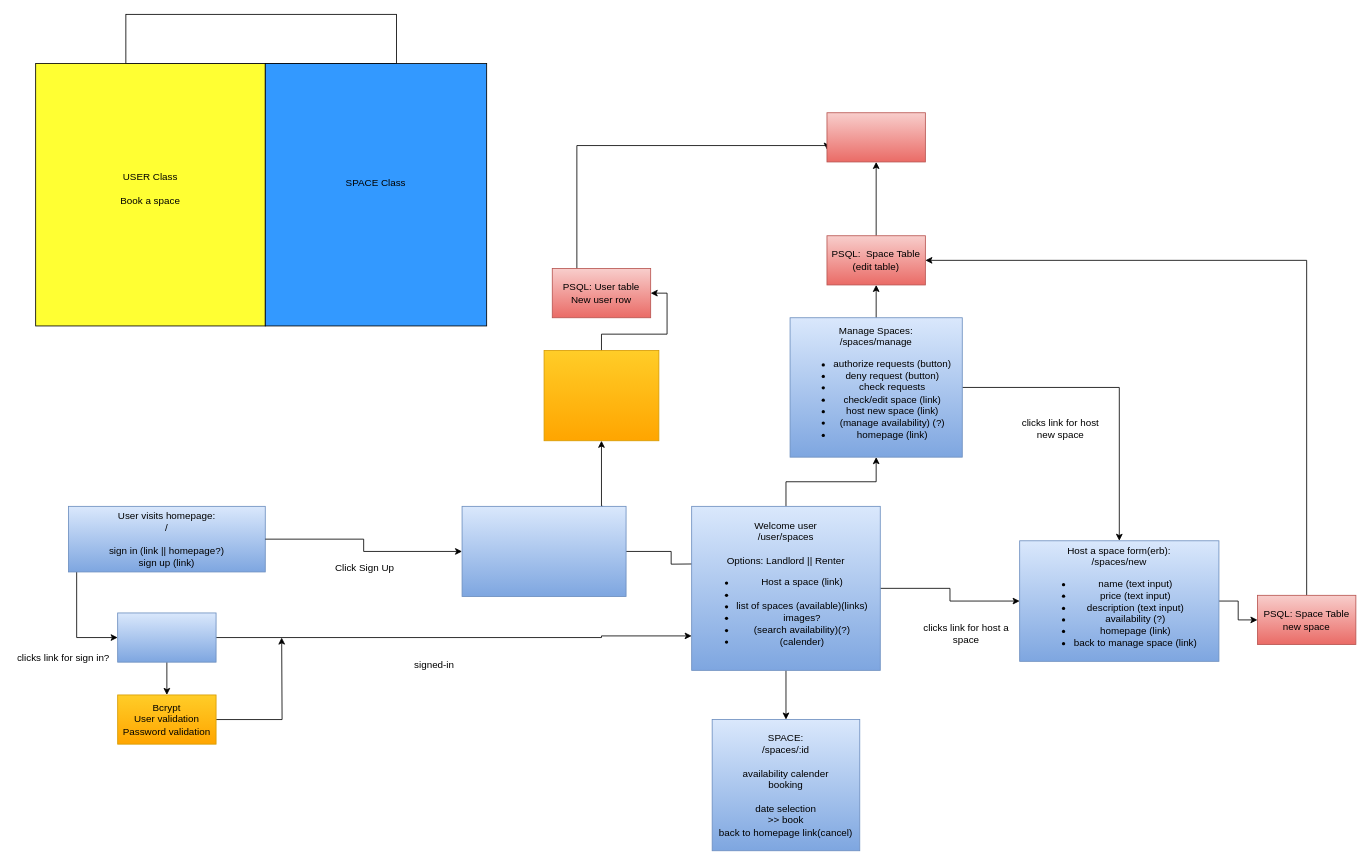
The diagram is 1370 pixels wide and 865 high, and some of its shapes have lost their labels. Each missing label, with the centre of its shape:
"/user/sign-in" goes at [166,637].
"Bcrypt: password match?" goes at [601,395].
"CLASS RESPONIBILITIES" goes at [260,39].
"sign up form(erb) /user/new User: username (text input) password (text input)" goes at [543,551].
"User table many n, relation" goes at [875,137].
